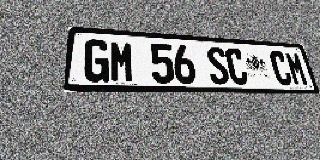5: (150, 43, 175, 84)
6: (172, 44, 197, 84)
C: (224, 48, 250, 85), (268, 51, 294, 86)
G: (83, 39, 109, 82)
M: (110, 40, 134, 83), (284, 52, 310, 86)
S: (205, 47, 231, 84)
